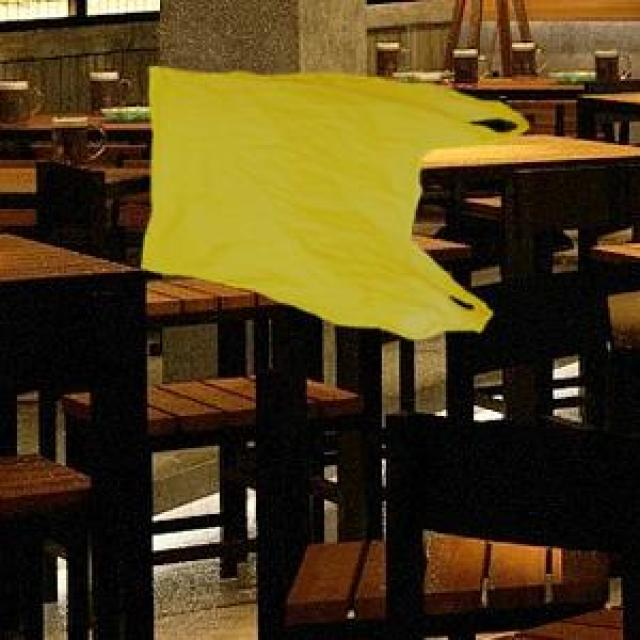plastic: (127, 42, 530, 360)
